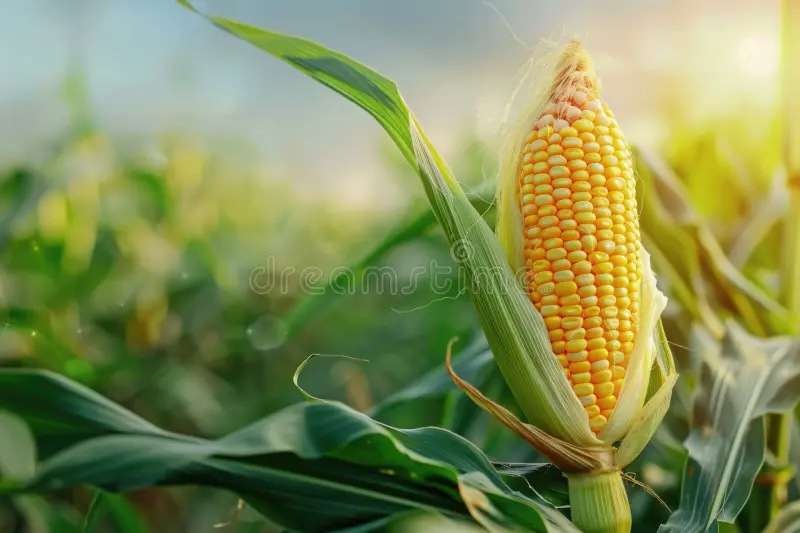corn: (465, 48, 743, 529)
